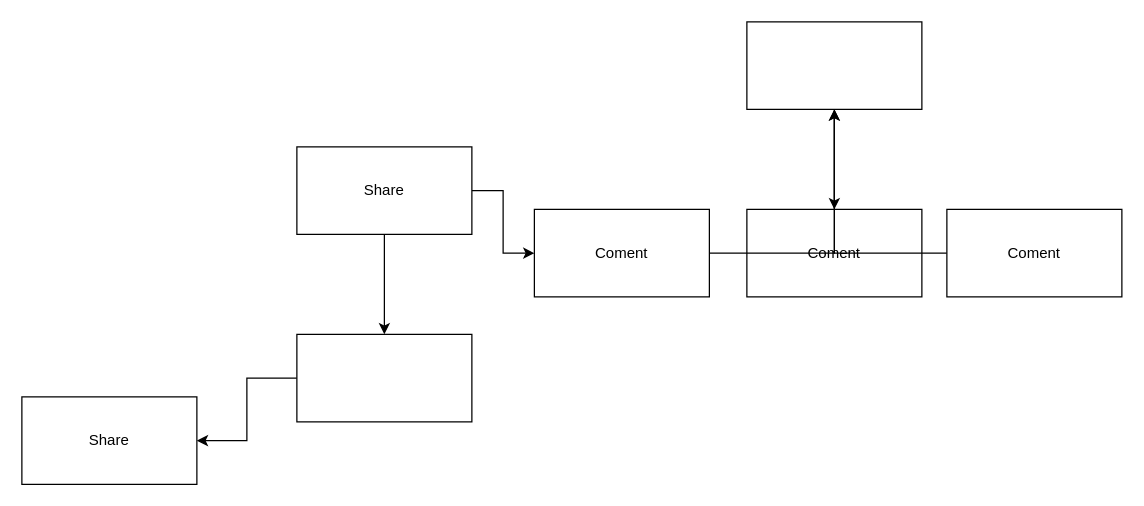
The diagram is 1144 pixels wide and 506 high, and some of its shapes have lost their labels. The box of each missing label's shape, as (x1, y1, x2, y2) in pixels:
Comment: (296, 333, 472, 422)
Tweet: (746, 21, 922, 109)
